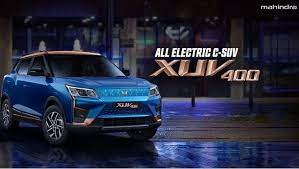XUV 400: (5, 49, 163, 145)
